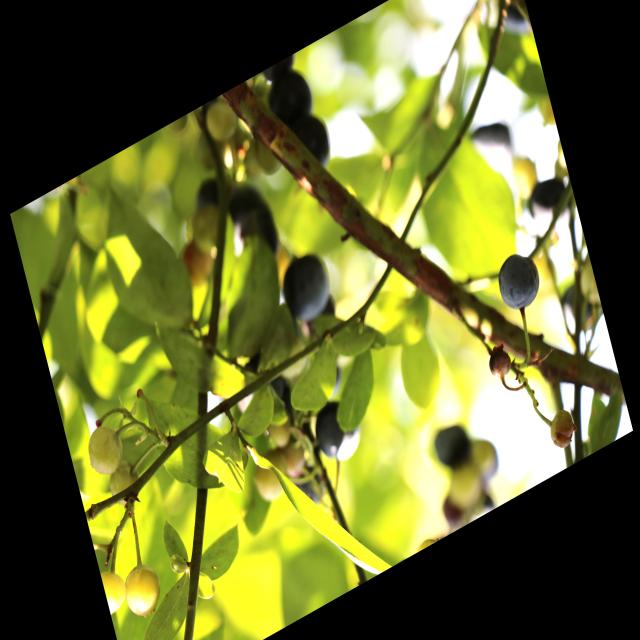blueberry: (278, 244, 338, 332), (262, 60, 320, 136), (492, 242, 546, 321), (284, 103, 338, 178), (312, 396, 365, 472)
blueberry-unripe: (120, 557, 166, 623), (83, 418, 127, 481), (105, 460, 144, 510), (100, 564, 129, 615)
